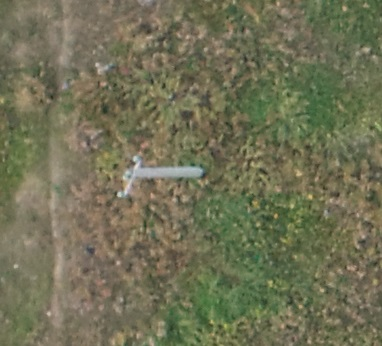opora: (116, 154, 204, 198)
